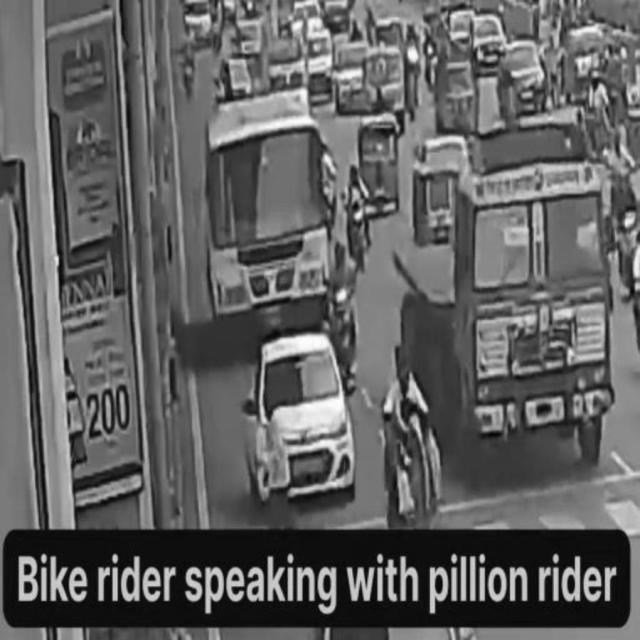accident: (376, 344, 440, 534)
vehicle: (457, 160, 611, 458), (205, 111, 331, 338), (248, 337, 356, 501), (330, 239, 358, 405), (346, 162, 371, 270)
